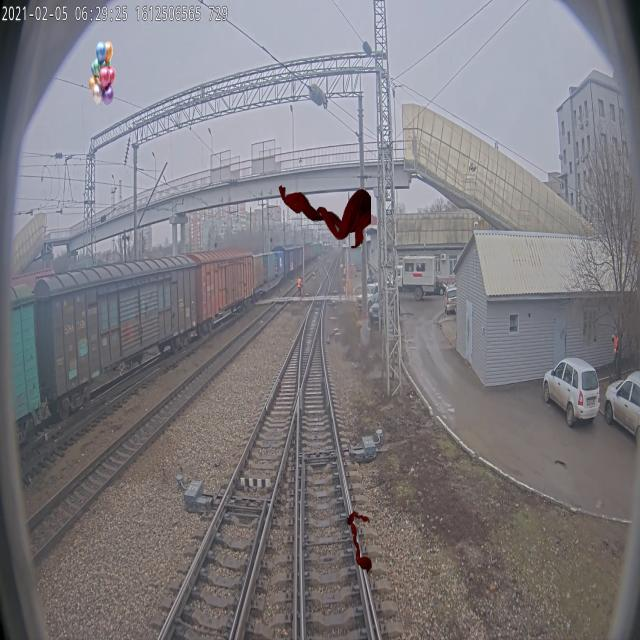balloon: (277, 184, 371, 248), (89, 41, 115, 105)
floating object: (347, 509, 372, 574)
